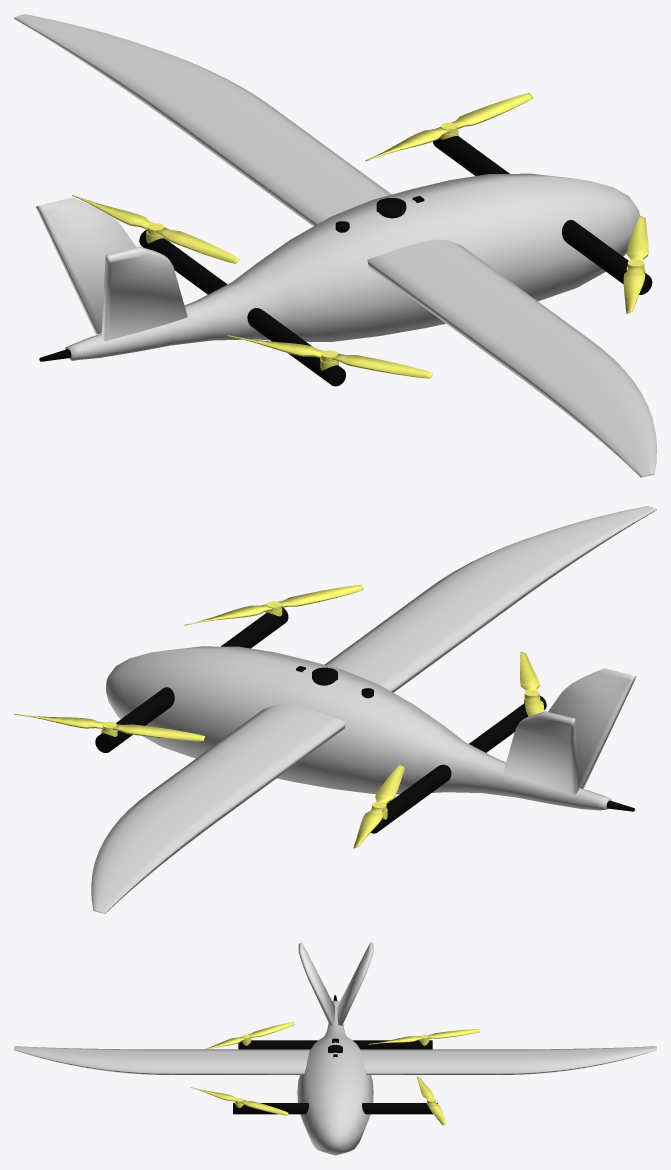
Rendered from Multi_Wing_Drone.fbx.
3 views of the same model, one above another, from view 1: azimuth 30°, elevation 25°; view 2: azimuth 150°, elevation 25°; view 3: azimuth 270°, elevation 25° (orthographic). The views are drawn at different scales.
Visible parts, largest first — view 1: Cube.005, Cube, Cube.007, Cube.006, Cylinder.001, Cylinder, Cube.003, Cube.004, Cube.002, Cube.001; view 2: Cube.005, Cube, Cube.006, Cube.007, Cylinder, Cylinder.001, Cube.002, Cube.001, Cube.004, Cube.003; view 3: Cube.005, Cube, Cylinder, Cylinder.001, Cube.006, Cube.007, Cube.004, Cube.003, Cube.001, Cube.002.
Boxes of the visible parts, <box> form: Cube.005: <box>14,14,656,477</box>; Cube: <box>39,173,639,361</box>; Cube.007: <box>101,246,187,340</box>; Cube.006: <box>36,197,136,334</box>; Cylinder.001: <box>139,230,345,386</box>; Cylinder: <box>433,136,652,294</box>; Cube.003: <box>226,335,432,378</box>; Cube.004: <box>72,195,239,263</box>; Cube.002: <box>365,93,533,161</box>; Cube.001: <box>623,215,648,313</box>; Cube.005: <box>91,506,656,913</box>; Cube: <box>106,646,634,811</box>; Cube.006: <box>503,711,578,794</box>; Cube.007: <box>548,668,636,788</box>; Cylinder: <box>95,608,288,752</box>; Cylinder.001: <box>370,696,546,833</box>; Cube.002: <box>14,713,204,741</box>; Cube.001: <box>184,585,363,625</box>; Cube.004: <box>353,764,404,848</box>; Cube.003: <box>520,651,544,716</box>; Cube.005: <box>14,1046,656,1074</box>; Cube: <box>297,995,373,1155</box>; Cylinder: <box>233,1103,437,1114</box>; Cylinder.001: <box>238,1040,432,1049</box>; Cube.006: <box>337,942,373,1025</box>; Cube.007: <box>298,942,334,1025</box>; Cube.004: <box>369,1029,480,1045</box>; Cube.003: <box>205,1022,294,1049</box>; Cube.001: <box>190,1087,288,1115</box>; Cube.002: <box>416,1076,445,1125</box>.
Size of the model in its own units: 1666 by 466 by 3026.
